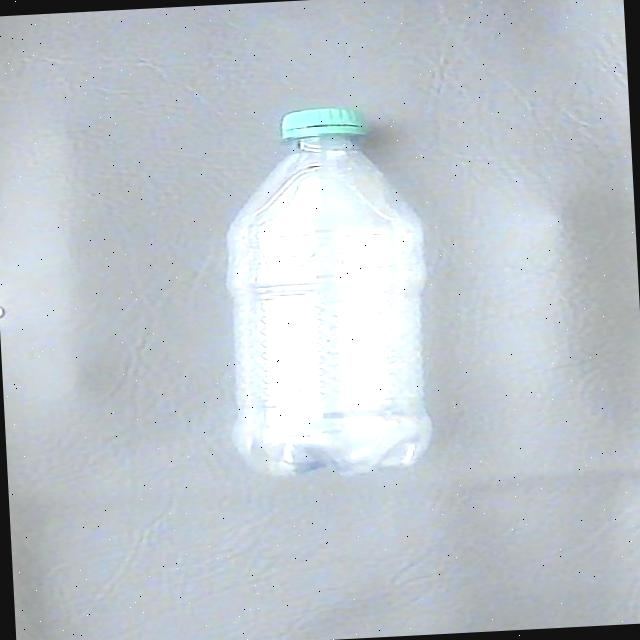bottle: (207, 100, 446, 482)
cap: (270, 107, 372, 149)
